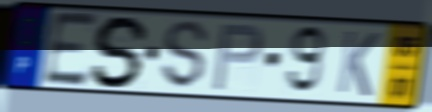9: (282, 24, 328, 98)
E: (41, 10, 102, 89)
K: (334, 28, 382, 100)
P: (209, 22, 265, 93)
S: (89, 13, 153, 90), (161, 19, 210, 92)
